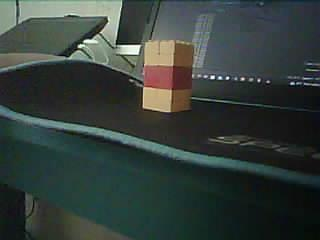lego: (141, 38, 194, 114)
